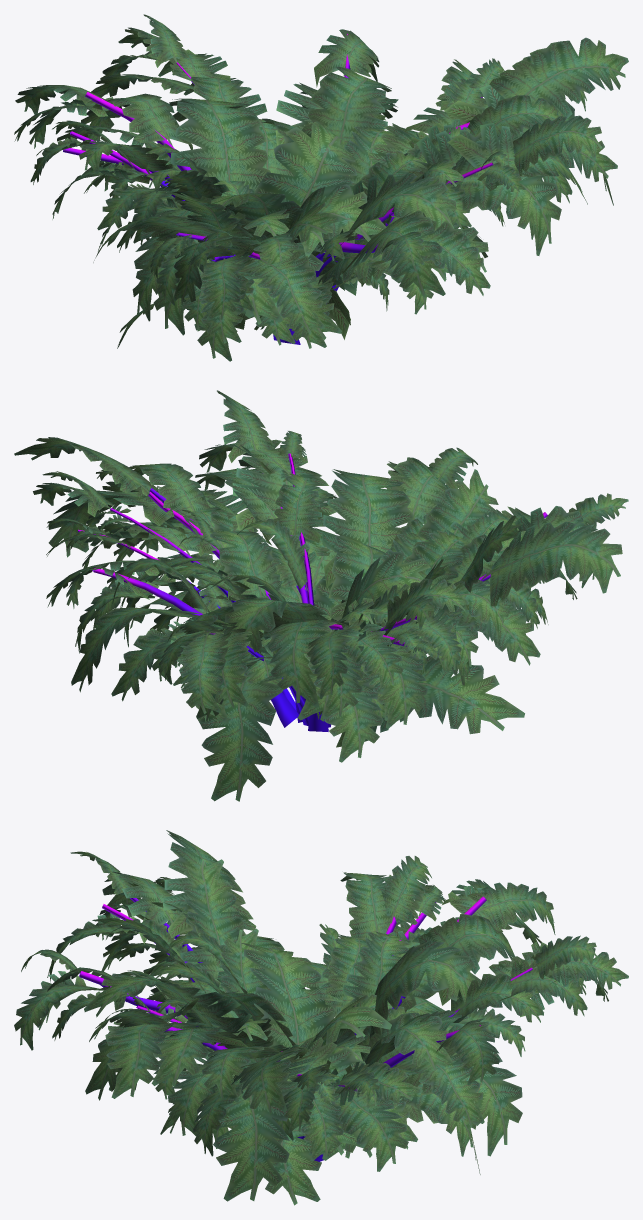
Rendered from Flo_Bush.fbx.
3 renders of one model, top to bottom at view 1: azimuth 30°, elevation 25°; view 2: azimuth 150°, elevation 25°; view 3: azimuth 270°, elevation 25°, orthographic. The views are drawn at different scales.
Parts seen in each view (by area): view 1: Flo_Bush_LOD0; view 2: Flo_Bush_LOD0; view 3: Flo_Bush_LOD0.
Boxes of the visible parts, bbox=[...] form: Flo_Bush_LOD0: bbox=[14, 14, 628, 361]; Flo_Bush_LOD0: bbox=[14, 390, 628, 801]; Flo_Bush_LOD0: bbox=[14, 830, 628, 1205].
Size of the model in its own units: 27.93 by 25.83 by 11.49.
